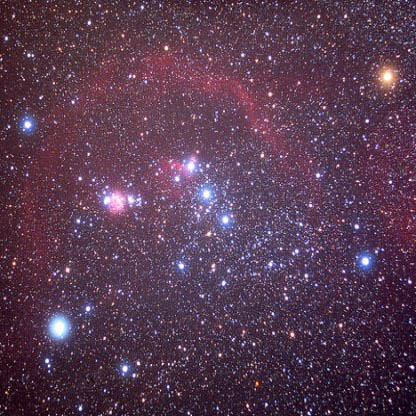Orion: (29, 310, 76, 349), (354, 242, 384, 281), (207, 209, 239, 238), (14, 101, 39, 138), (192, 181, 222, 206), (176, 152, 202, 178), (381, 60, 399, 90)
